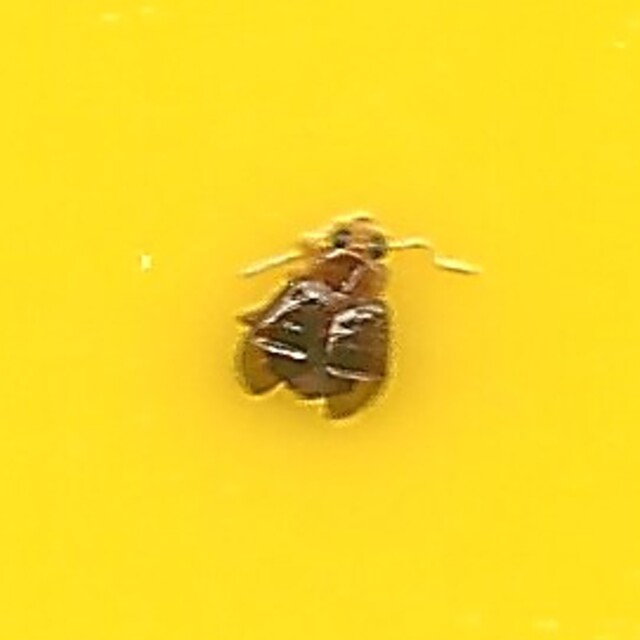Coleoptera: (236, 216, 404, 424)
